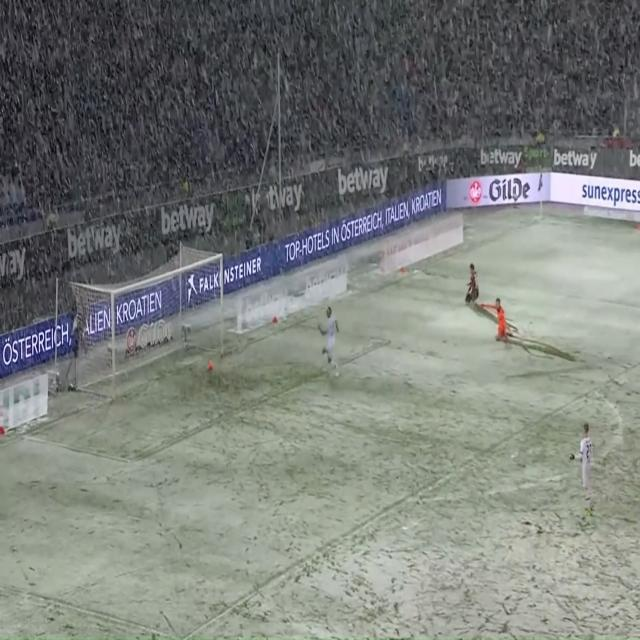ball: (206, 355, 215, 373)
goalkeeper: (476, 293, 517, 345)
player: (567, 409, 598, 521), (316, 300, 342, 379), (462, 257, 480, 309)
